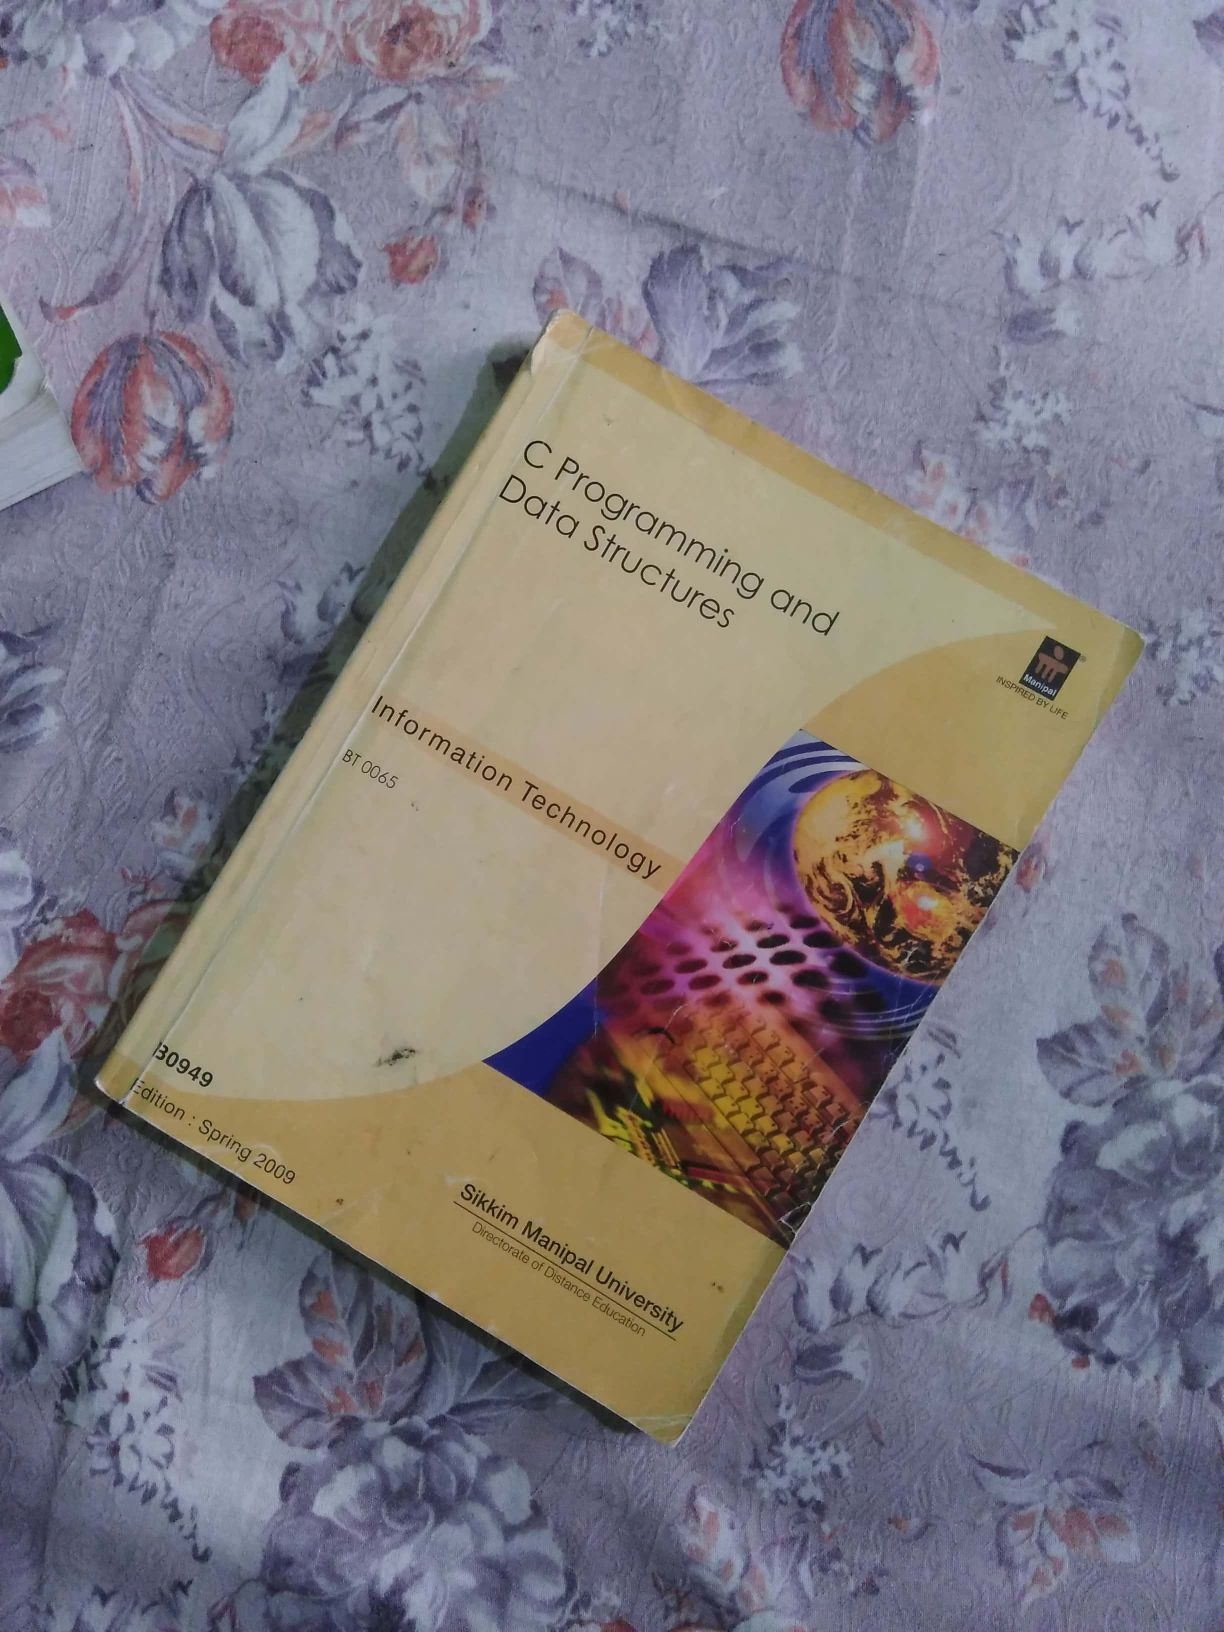clang: (132, 341, 1059, 1342)
